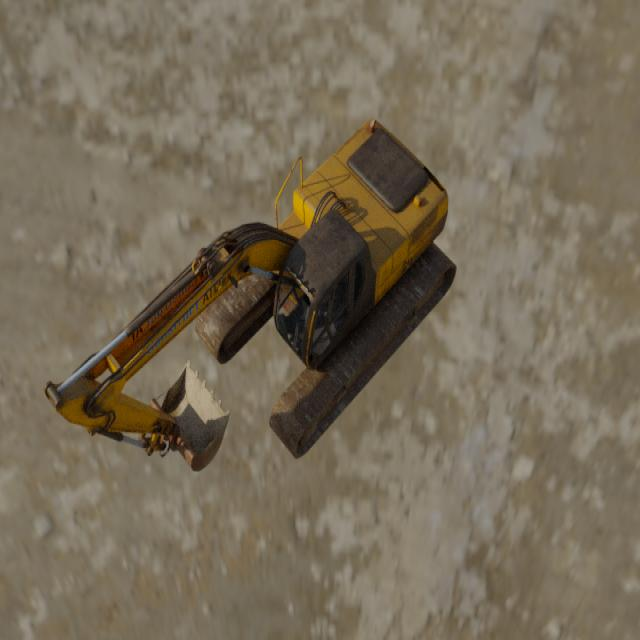excavator: (42, 116, 457, 472)
